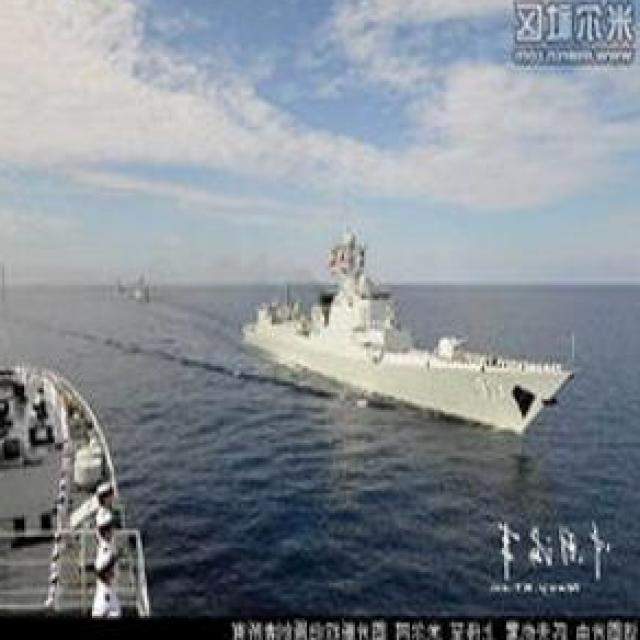navalvessels: (234, 223, 576, 439), (0, 353, 156, 618)
